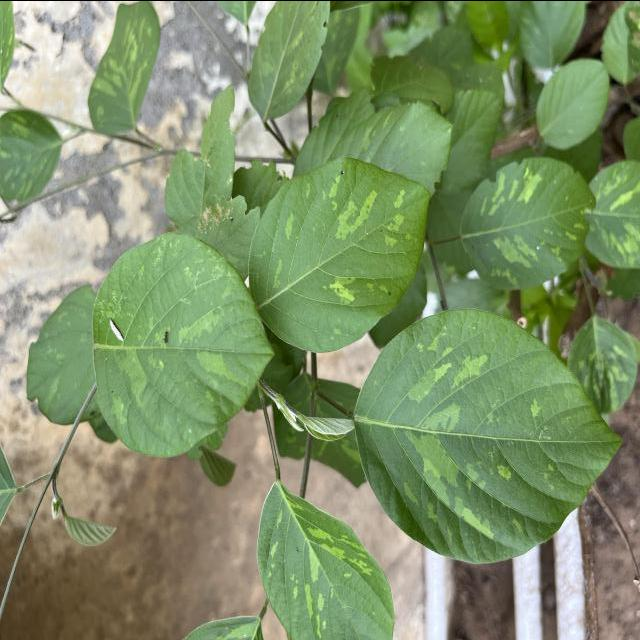Desmodium gangeticum: (348, 304, 626, 565), (90, 227, 278, 460), (245, 152, 436, 355), (253, 476, 397, 640)
